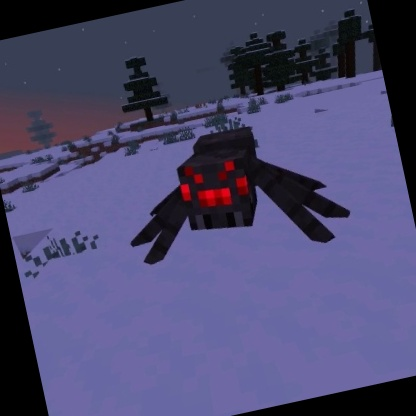spider: (106, 104, 359, 288)
